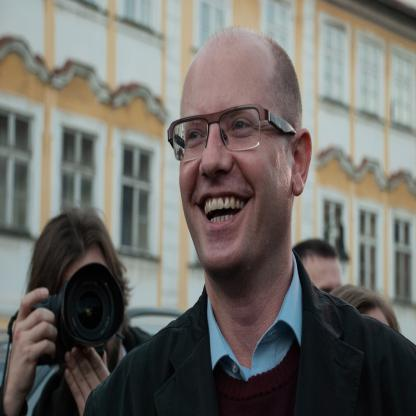Camera: (22, 266, 128, 363)
